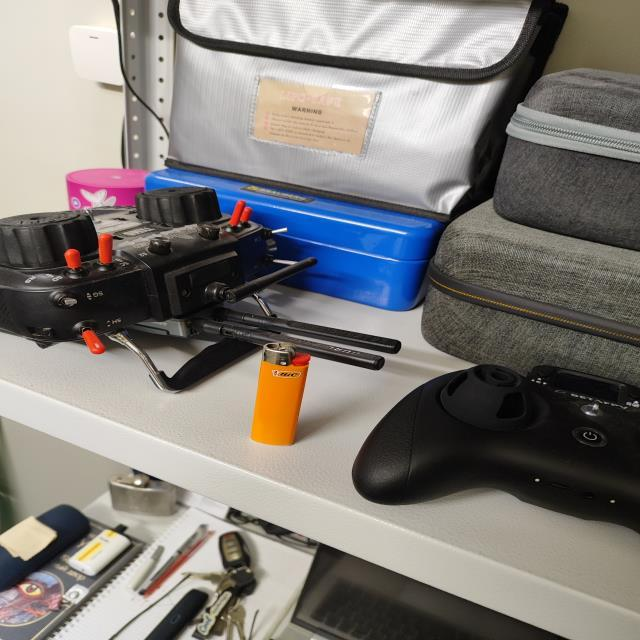lighter: (250, 342, 310, 445)
